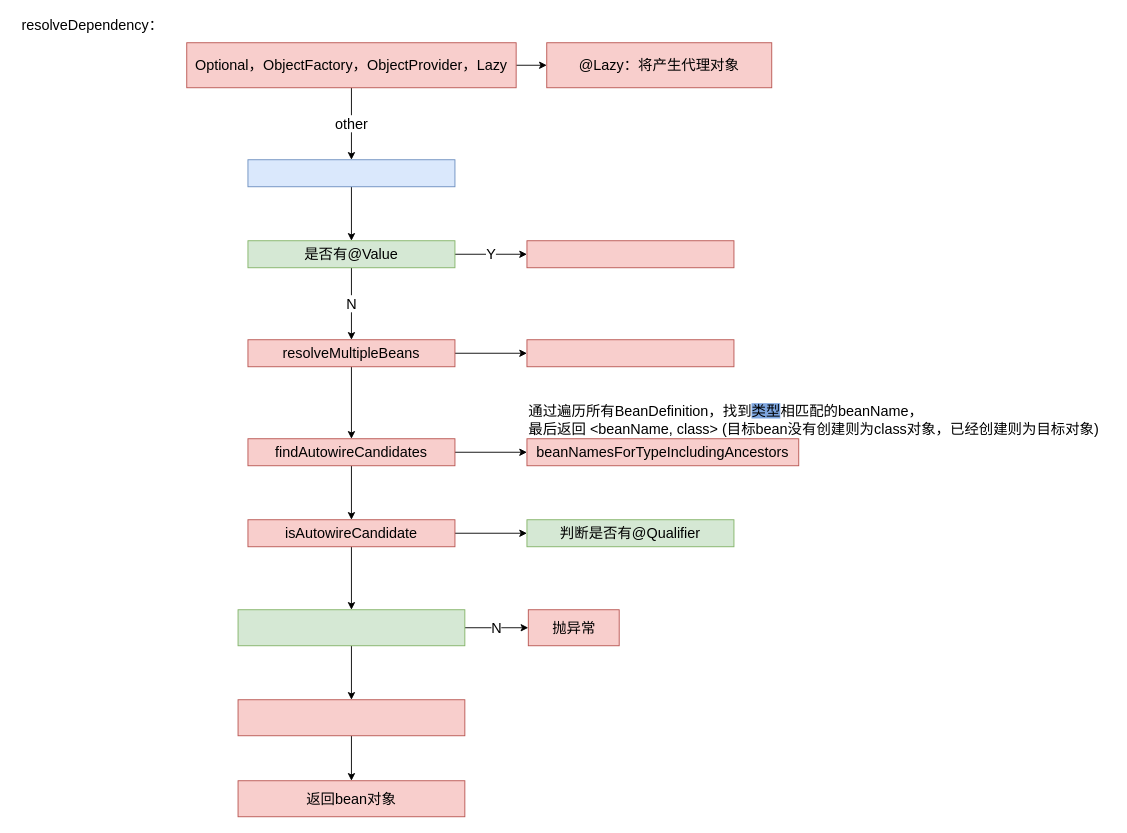
This 1127x833 diagram has some shape labels left out. Here are the shapes that lost their labels. From the top down, the centre of each, then its label:
At point (351, 173): "doResolveDependency".
At point (630, 254): "解析结果".
At point (630, 353): "数组、集合、Map类型".
At point (351, 627): "如果有多个，是否有一个被@Primary标记的".
At point (351, 717): "如果上面获取的是class，那么调用getBean()".
